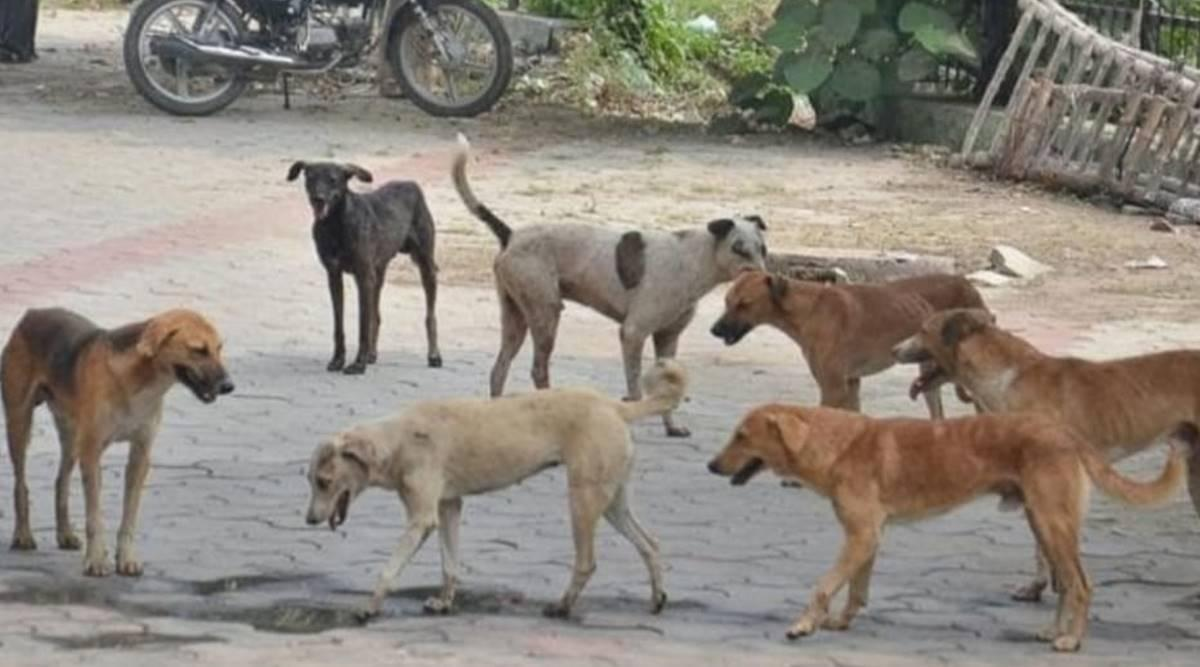normal_dogs: (710, 385, 1186, 662), (288, 362, 706, 622), (447, 135, 770, 429), (882, 313, 1200, 597), (1, 289, 240, 606), (707, 262, 1002, 416), (274, 145, 449, 376)
